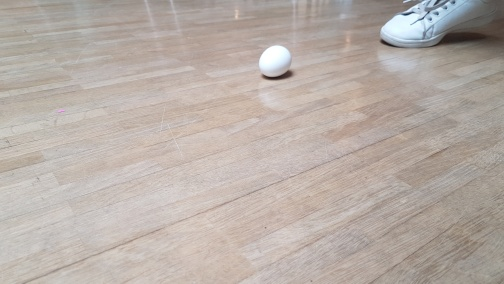egg: (258, 44, 292, 78)
